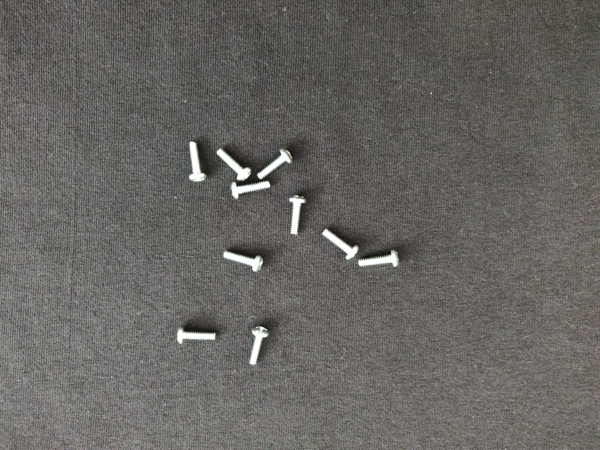shortscrew: (215, 147, 255, 184), (320, 226, 360, 263), (257, 145, 295, 182), (244, 324, 273, 368), (184, 138, 210, 186), (222, 248, 264, 274), (357, 248, 400, 273), (230, 177, 273, 200), (177, 326, 220, 345), (288, 194, 306, 237)
